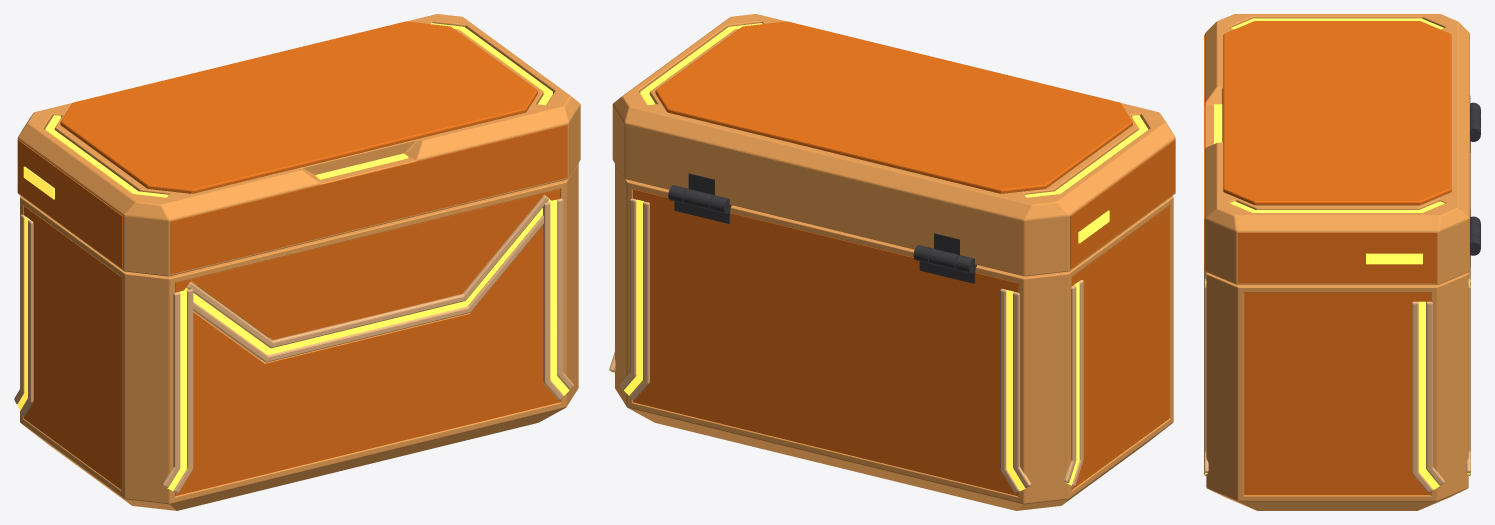
Rendered from solar.glb.
3 views of the same model, side by side, from view 1: azimuth 30°, elevation 25°; view 2: azimuth 150°, elevation 25°; view 3: azimuth 270°, elevation 25° (orthographic). The views are drawn at different scales.
Visible parts, largest first — view 1: PlateFB, LidTopPanel, BodyCore, LidFrontPlate, LidBand, PlateSide, LidSidePlate, Rail_5, Rail_4, LedPath_3, Rail_16, LedPath_15 (+9 smaller); view 2: PlateFB.001, LidTopPanel, LidBand, BodyCore, PlateSide, LidSidePlate, Rail_10, Rail_20, LedPath_9, LedPath_18, Rail_11, Rail_19 (+5 smaller); view 3: LidTopPanel, PlateSide.001, BodyCore, LidBand, LidSidePlate.001, LedPath_21, Rail_22, Rail_23, LedPath_27, LedPath_30, LedPath_26, Rail_17 (+2 smaller).
Boxes of the visible parts, x1,y1,x2,y2 form: PlateFB: (175, 189, 560, 496); LidTopPanel: (60, 21, 537, 193); BodyCore: (20, 163, 578, 510); LidFrontPlate: (170, 125, 567, 274); LidBand: (17, 14, 580, 276); PlateSide: (23, 206, 121, 489); LidSidePlate: (17, 139, 122, 268); Rail_5: (186, 195, 548, 348); Rail_4: (193, 215, 543, 362); LedPath_3: (184, 199, 550, 354); Rail_16: (543, 201, 563, 400); LedPath_15: (549, 199, 569, 395); PlateFB.001: (633, 189, 1018, 496); LidTopPanel: (655, 21, 1132, 193); LidBand: (612, 14, 1175, 276); BodyCore: (615, 164, 1173, 510); PlateSide: (1071, 205, 1169, 489); LidSidePlate: (1070, 139, 1175, 268); Rail_10: (1000, 288, 1019, 493); Rail_20: (629, 201, 649, 400); LedPath_9: (1006, 290, 1025, 491); LedPath_18: (624, 199, 643, 395); Rail_11: (1013, 292, 1031, 487); Rail_19: (619, 198, 636, 389); LidTopPanel: (1223, 21, 1451, 205); PlateSide.001: (1244, 292, 1430, 495); BodyCore: (1206, 272, 1468, 510); LidBand: (1205, 14, 1469, 284); LidSidePlate.001: (1238, 232, 1436, 283); LedPath_21: (1418, 301, 1439, 489); Rail_22: (1412, 301, 1433, 493); Rail_23: (1426, 301, 1444, 485); LedPath_27: (1230, 201, 1444, 212); LedPath_30: (1366, 253, 1422, 264); LedPath_26: (1231, 18, 1443, 29); Rail_17: (1204, 284, 1208, 473).
Bounding box in the file's own units: 1.78 × 1.17 × 0.971.
